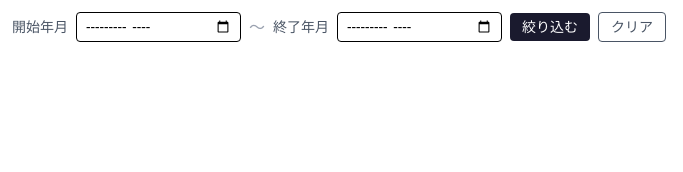
Test: DateRangeFilter › from のみ入力で to が空のとき submit ボタンが disabled になること
Type "2024-03" into the field labelled "開始年月".
click(158, 27); type("2024-03")  # box [76,12,241,42]
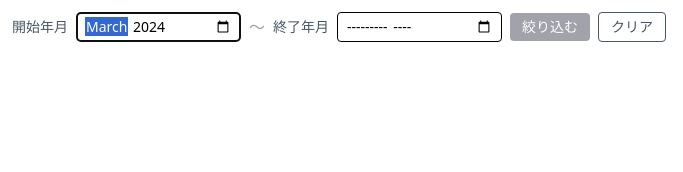
Now the button "絞り込む" is disabled, box [510,13,590,41]
